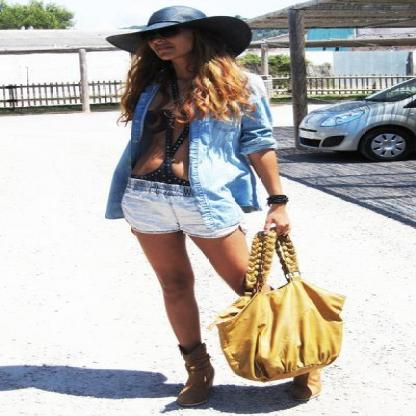bag: (216, 232, 346, 382)
hat: (119, 5, 260, 58)
jacket: (104, 62, 286, 218)
shirt: (131, 92, 211, 185)
shoe: (179, 342, 320, 403)
shorts: (122, 174, 237, 240)
